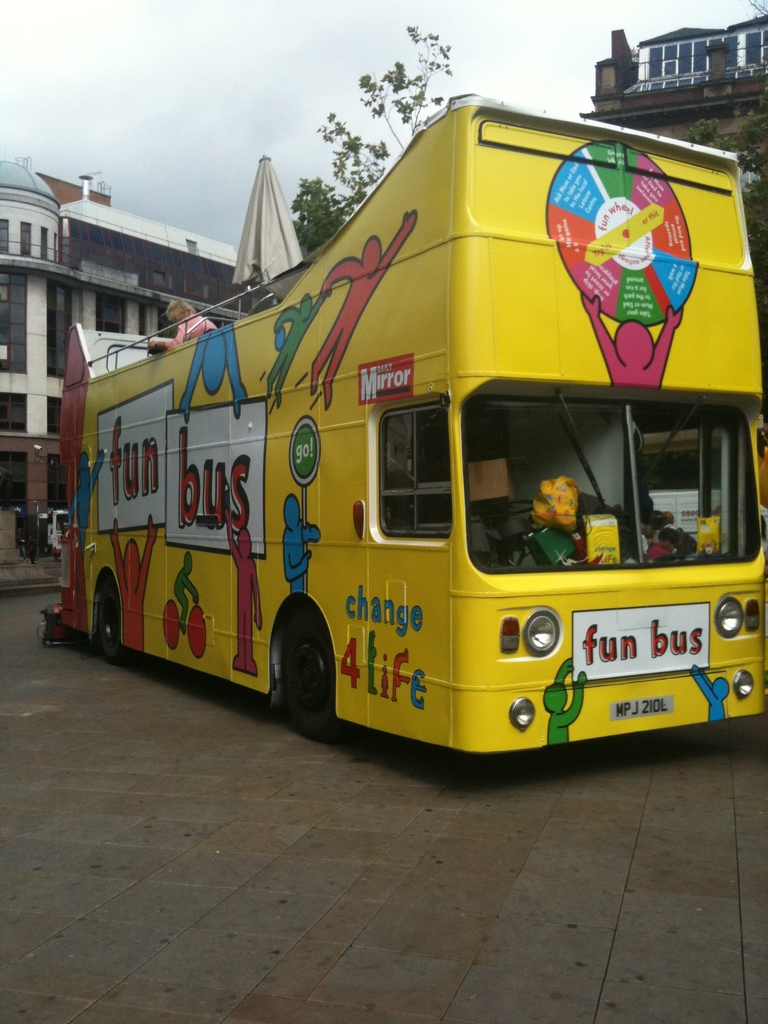Bus: (51, 91, 767, 765)
